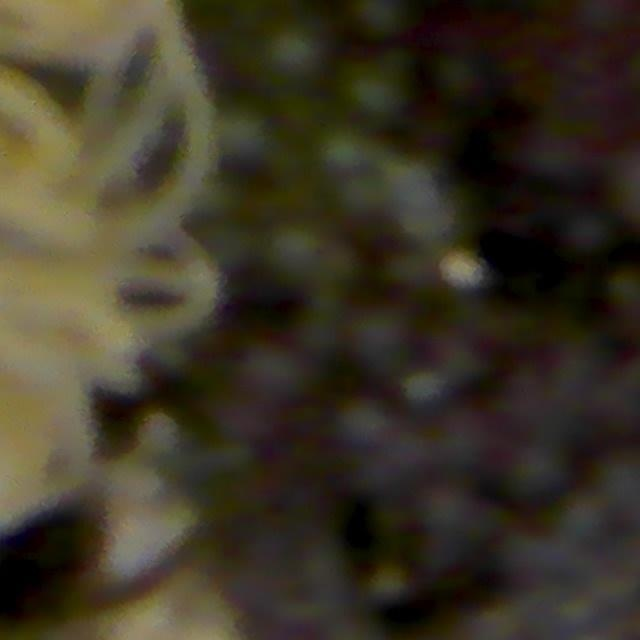SeaGrape: (343, 299, 417, 375), (239, 336, 313, 408), (260, 19, 332, 91), (419, 480, 478, 537), (508, 440, 565, 496), (334, 397, 392, 451), (347, 0, 415, 44), (440, 406, 491, 461)
